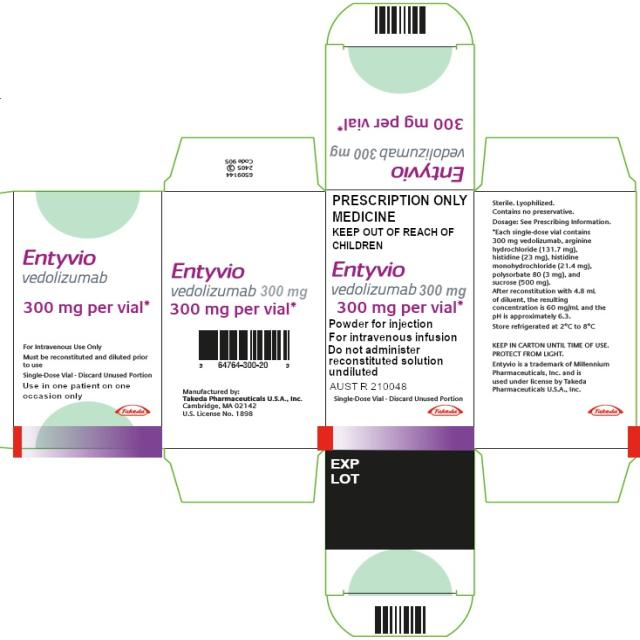Artwork: (0, 0, 640, 640)
Back_Panel: (13, 191, 163, 447)
Bottom_Part: (325, 451, 474, 596)
Extra_Areas: (474, 448, 639, 505), (163, 448, 324, 504), (163, 136, 324, 191), (476, 135, 637, 190), (326, 595, 474, 639), (327, 2, 473, 46), (0, 191, 14, 450), (13, 448, 163, 459)
Front_Panel: (326, 190, 475, 450)
Side_Panel: (474, 188, 637, 449), (162, 191, 326, 448)
Top_Panel: (326, 44, 474, 189)
